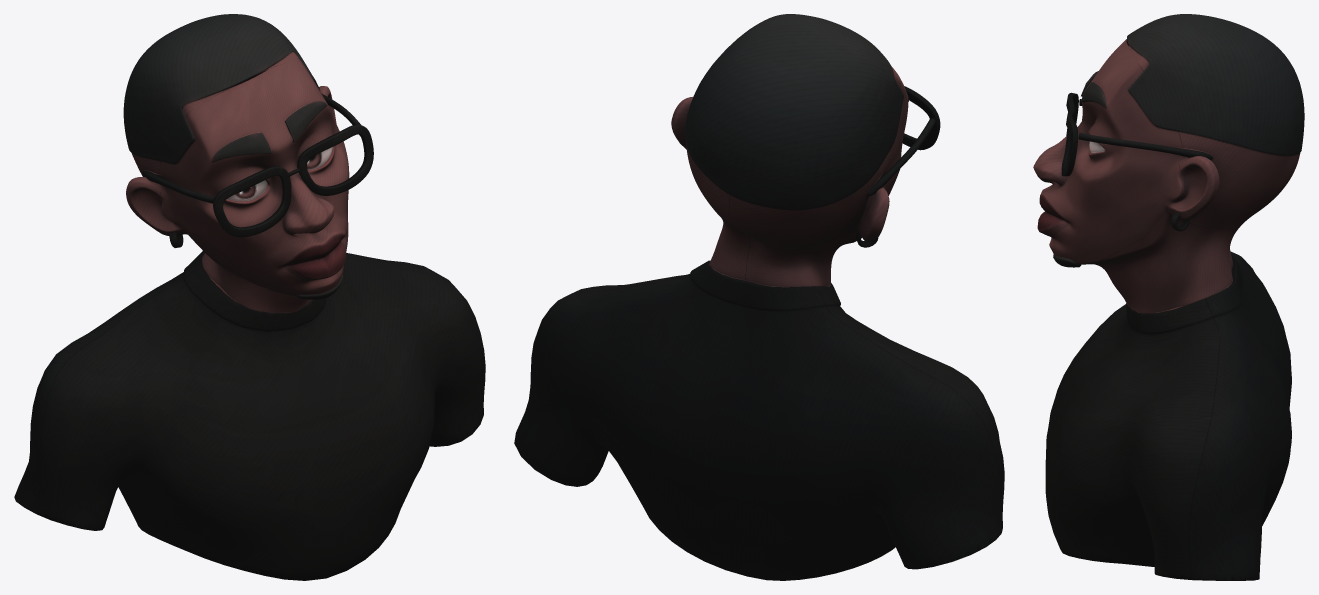
File: SM_PortraitWeb-moved.glb
The picture shows the model from 3 angles, left to right: view 1: azimuth 30°, elevation 25°; view 2: azimuth 150°, elevation 25°; view 3: azimuth 270°, elevation 25°; orthographic projection. The views are drawn at different scales.
Parts seen in each view (by area): view 1: outline; view 2: outline; view 3: outline.
Boxes of the visible parts, x1,y1,x2,y2 form: outline: (14, 14, 485, 580); outline: (514, 14, 1004, 580); outline: (1033, 14, 1304, 580).
Size of the model in its own units: 0.571 by 0.6264 by 0.2992.
1 material, 1 textured.
